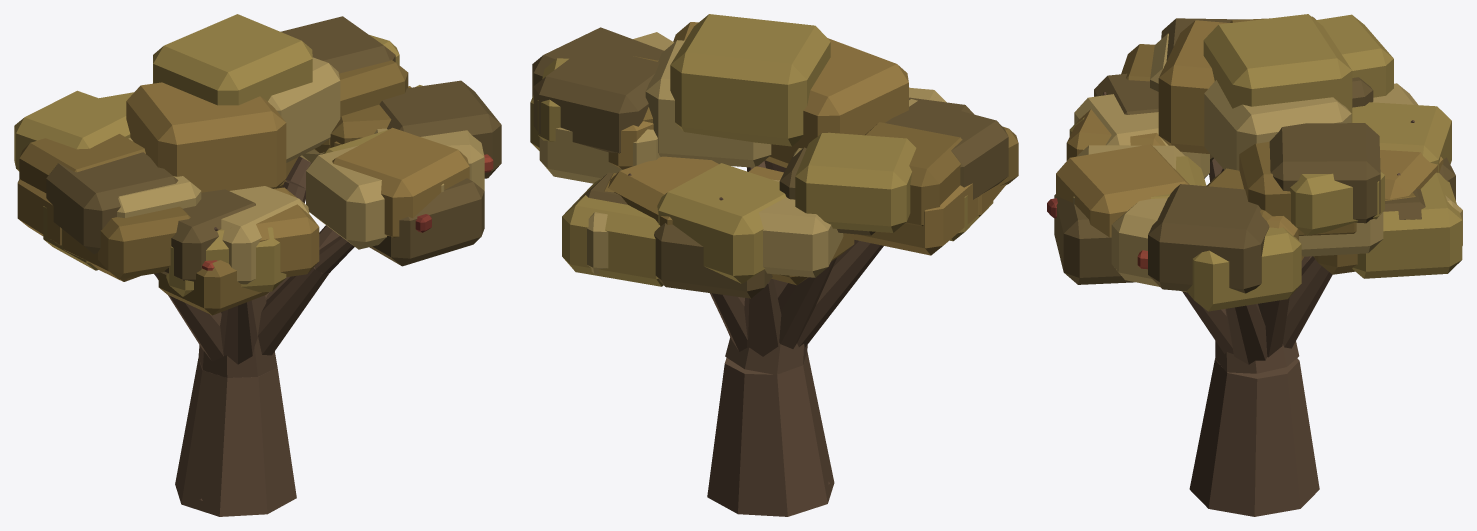
Rendered from apple_ancient_autumn_fruiting_2.glb.
The picture shows the model from 3 angles, left to right: view 1: azimuth 30°, elevation 25°; view 2: azimuth 150°, elevation 25°; view 3: azimuth 270°, elevation 25°; orthographic projection. The views are drawn at different scales.
Parts seen in each view (by area): view 1: apple_ancient_autumn_fruiting_2; view 2: apple_ancient_autumn_fruiting_2; view 3: apple_ancient_autumn_fruiting_2.
Boxes of the visible parts, x1,y1,x2,y2 form: apple_ancient_autumn_fruiting_2: (14,14,501,516); apple_ancient_autumn_fruiting_2: (530,14,1018,516); apple_ancient_autumn_fruiting_2: (1047,14,1462,516).
Size of the model in its own units: 18.41 by 18 by 15.
